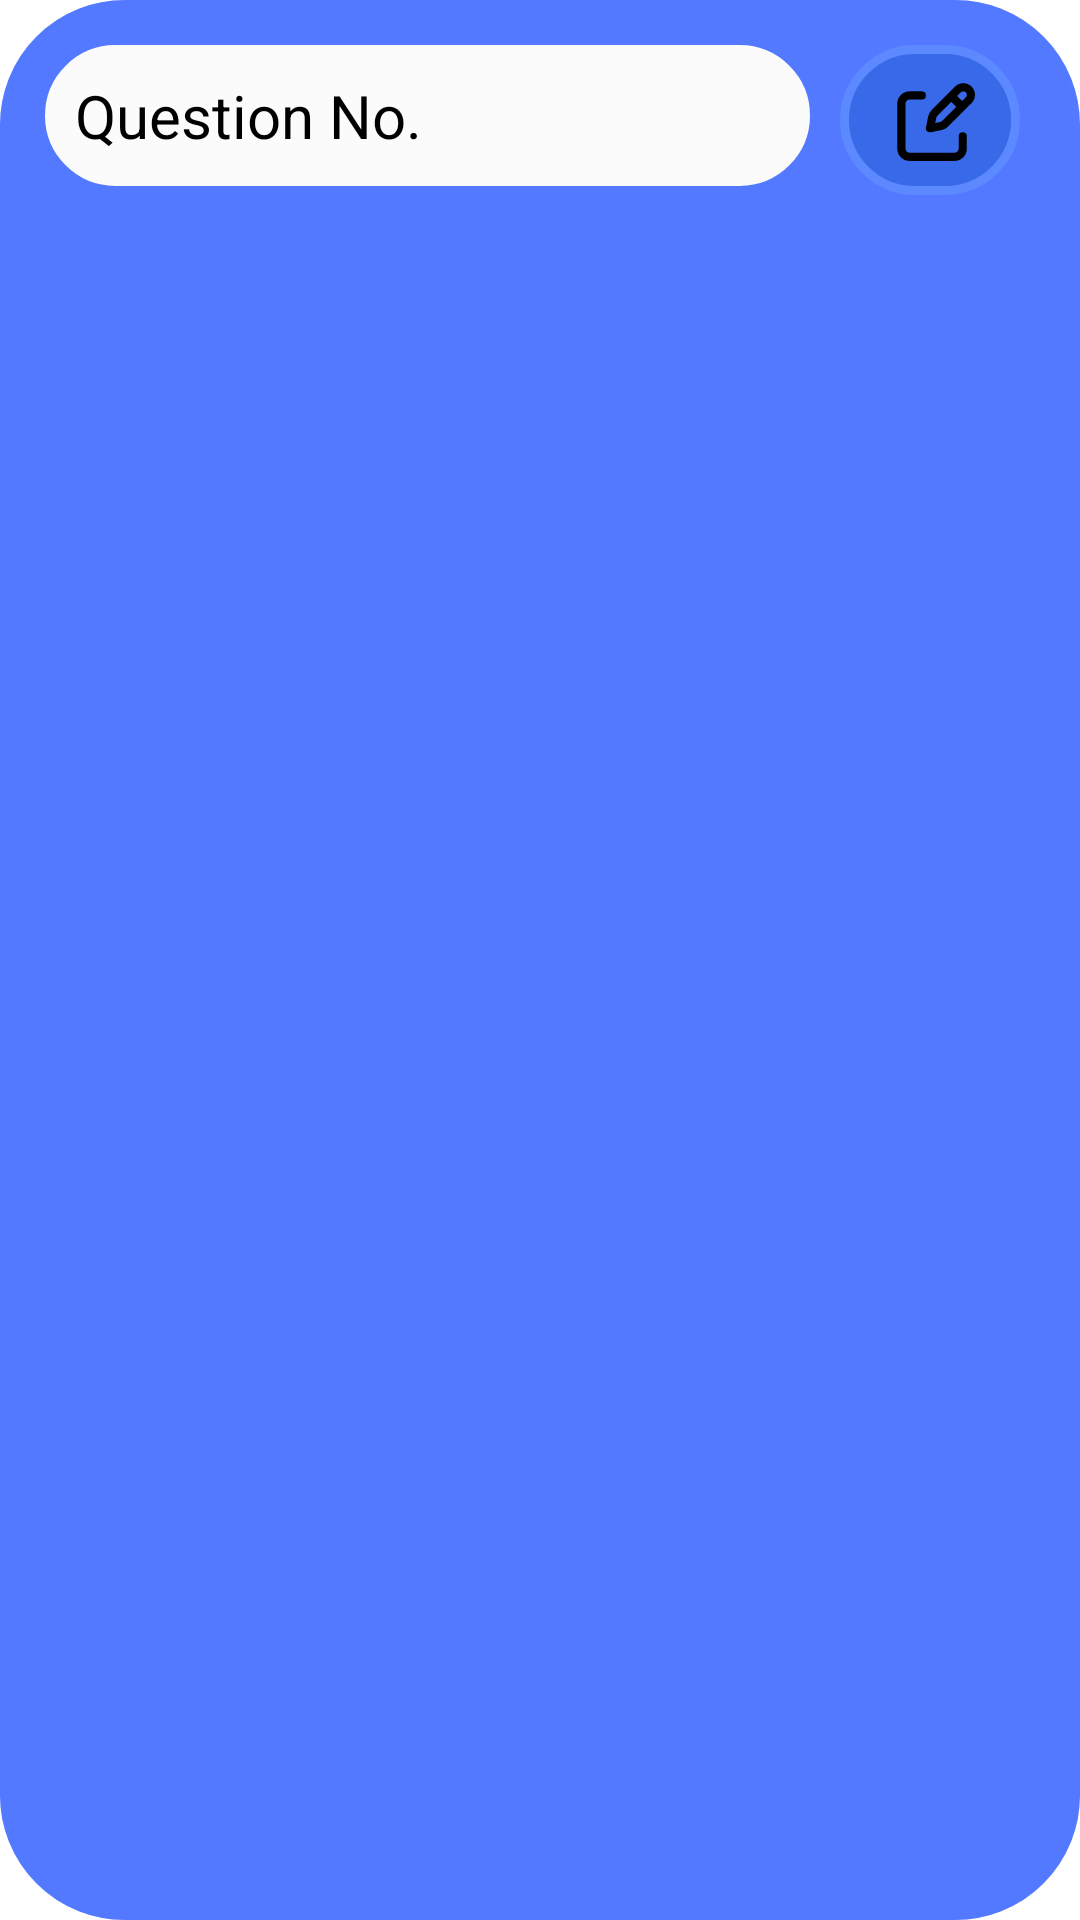

Where icons sit on this 1080 x 1920 app screen, as (x1, y1, x2, y2):
edit: (849, 54, 1011, 186)
